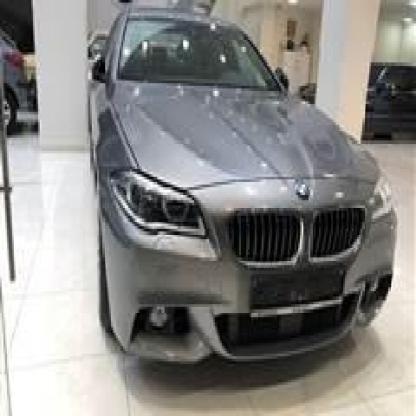Car: (74, 0, 400, 387), (0, 26, 24, 135)
